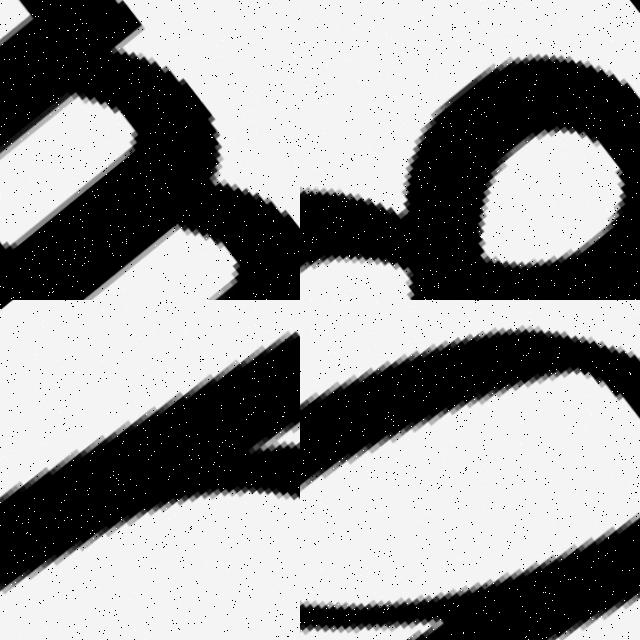8: (300, 0, 640, 300)
A: (300, 300, 640, 640)
M: (0, 0, 300, 300)
R: (0, 300, 300, 640)
